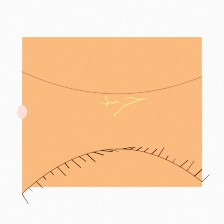corneal_ulcer: (86, 78, 148, 128)
